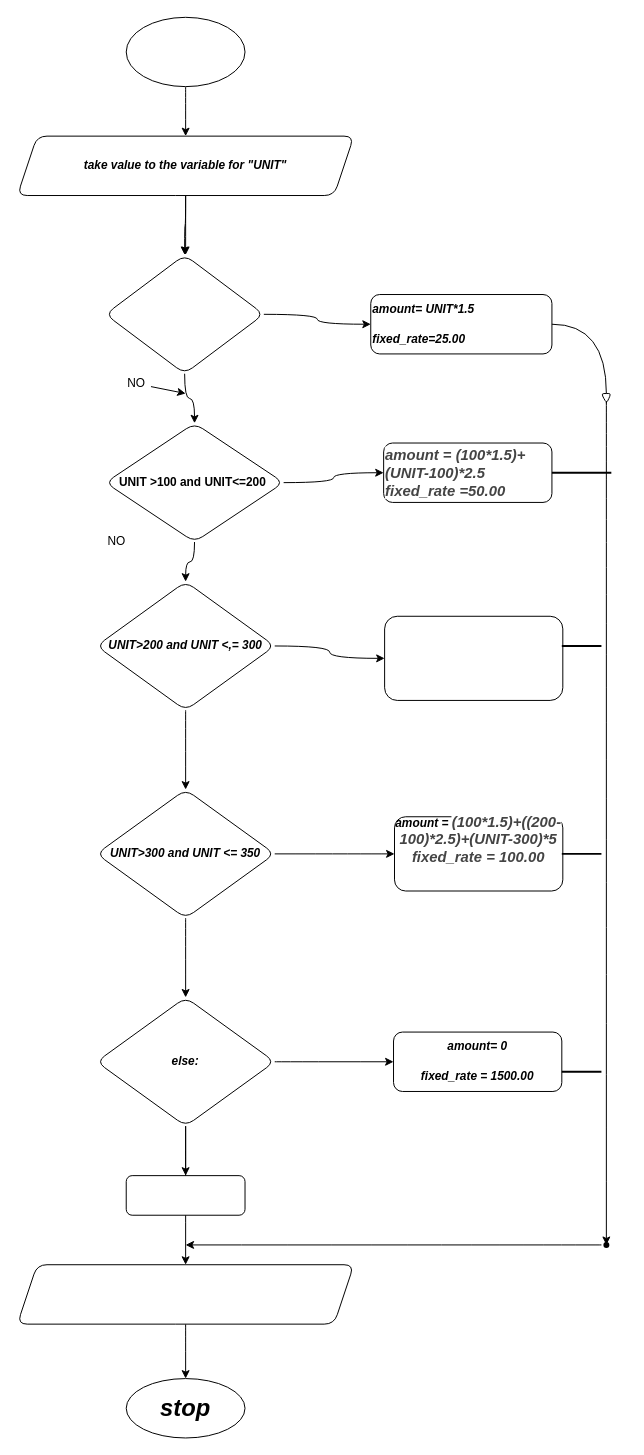
This 644x1455 diagram has some shape labels left out. The centre of each missing label's shape, as x and y in pixels:
amount = (100*1.5)+((200-100)*2.5)+(UNIT-200)*4 fixed _rate = 75.00: (x=473, y=657)
if UNIT>0 and UNIT<=100: (x=184, y=314)
print("this is the Electricity bill",total_bill): (x=185, y=1294)
start: (x=185, y=51)
total_bill = amount+fixed _rate: (x=185, y=1195)
